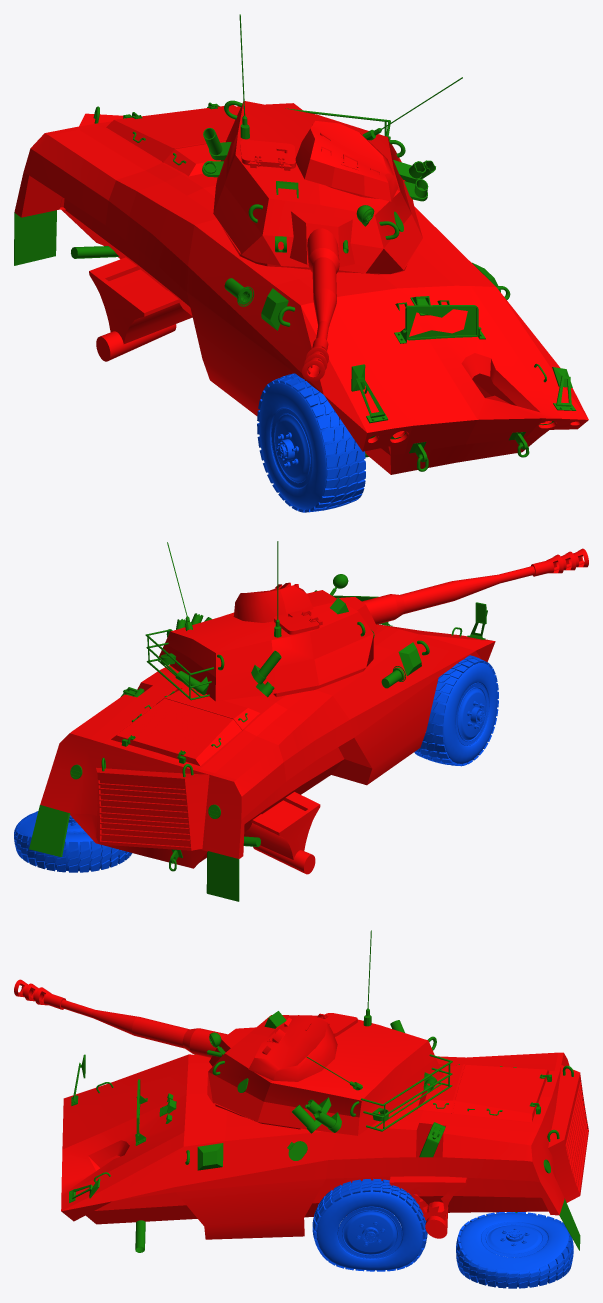
Rendered from destroyedPuma.FBX.
3 renders of one model, top to bottom at view 1: azimuth 30°, elevation 25°; view 2: azimuth 150°, elevation 25°; view 3: azimuth 270°, elevation 25°, orthographic. The views are drawn at different scales.
Visible parts, largest first — view 1: base body, turre tbase, tire_001, side part, hatch, back door, big gun, turret misc, back tires shield, glass viewport, turret door, mirrors (+1 smaller); view 2: base body, turre tbase, back air inlet, tire_001, back door, big gun, side part, tire_003, back tires shield, hatch, turret misc, turret door (+1 smaller); view 3: base body, turre tbase, tire_002, tire_003, back door, hatch, back air inlet, big gun, turret misc, side part, side boxes, turret door (+2 smaller).
Part boxes in pixels (x1=…): base body: x1=14, y1=103, x2=588, y2=474; turre tbase: x1=213, y1=101, x2=422, y2=274; tire_001: x1=257, y1=373, x2=365, y2=512; side part: x1=89, y1=257, x2=192, y2=361; hatch: x1=295, y1=121, x2=398, y2=201; back door: x1=106, y1=105, x2=239, y2=176; big gun: x1=302, y1=228, x2=339, y2=381; turret misc: x1=202, y1=108, x2=435, y2=252; back tires shield: x1=14, y1=210, x2=56, y2=265; glass viewport: x1=394, y1=305, x2=485, y2=343; turret door: x1=240, y1=140, x2=295, y2=170; mirrors: x1=351, y1=364, x2=576, y2=423; base body: x1=40, y1=624, x2=495, y2=868; turre tbase: x1=159, y1=590, x2=377, y2=701; back air inlet: x1=96, y1=767, x2=210, y2=850; tire_001: x1=414, y1=655, x2=498, y2=766; back door: x1=111, y1=688, x2=259, y2=765; big gun: x1=362, y1=548, x2=588, y2=624; side part: x1=244, y1=792, x2=320, y2=874; tire_003: x1=14, y1=811, x2=132, y2=872; back tires shield: x1=29, y1=805, x2=239, y2=901; hatch: x1=233, y1=582, x2=313, y2=622; turret misc: x1=145, y1=613, x2=374, y2=700; turret door: x1=274, y1=610, x2=322, y2=634; base body: x1=61, y1=1052, x2=569, y2=1239; turre tbase: x1=207, y1=1015, x2=443, y2=1135; tire_002: x1=312, y1=1178, x2=427, y2=1271; tire_003: x1=456, y1=1212, x2=573, y2=1288; back door: x1=417, y1=1064, x2=548, y2=1122; hatch: x1=248, y1=1015, x2=337, y2=1081; back air inlet: x1=548, y1=1064, x2=588, y2=1202; big gun: x1=14, y1=979, x2=227, y2=1057; turret misc: x1=237, y1=1020, x2=452, y2=1133; side part: x1=389, y1=1176, x2=467, y2=1238; side boxes: x1=197, y1=1143, x2=223, y2=1170; turret door: x1=317, y1=1013, x2=357, y2=1036.
Bounding box in the file's own units: 163 × 270 × 144.
